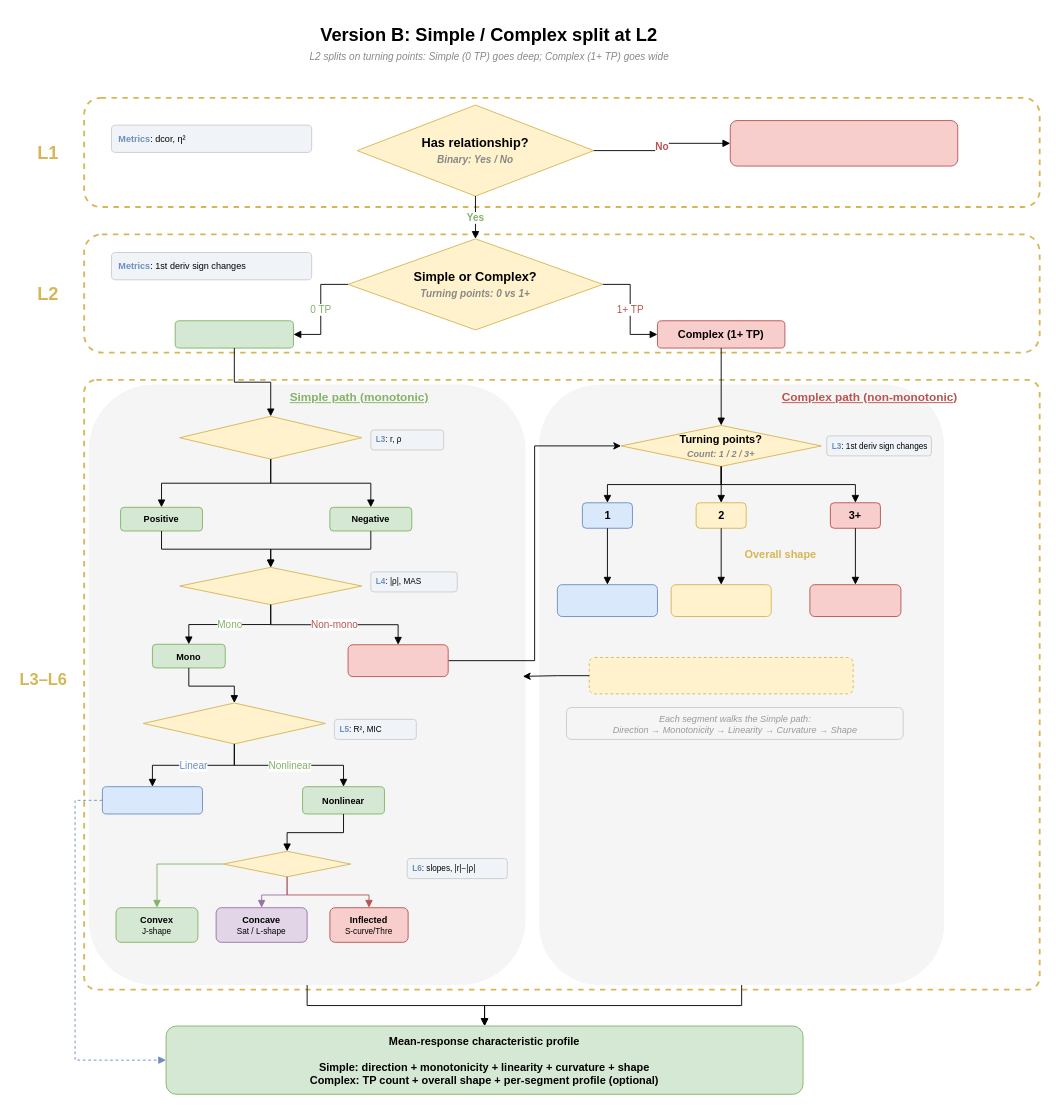
Some shapes in this 1056 by 1110 pixel diagram are drawn without their labels. The centre of each missing label's shape, as x and y in pixels:
"Cubic / N-shape" goes at point (720, 600).
"Curvature?" goes at point (286, 863).
"Direction? Pos / Neg" goes at point (270, 437).
"Linear → Line" goes at point (151, 800).
"Linearity? Linear / Nonlinear" goes at point (233, 723).
"Monotonicity? 5-level" goes at point (270, 585).
"No relationship → exit" goes at point (843, 143).
"Non-mono simplified exit" goes at point (397, 660).
"Oscillatory" goes at point (855, 600).
"Per-segment characterization (optional)" goes at point (720, 675).
"Simple (0 TP)" goes at point (233, 334).
"U / Inverted-U" goes at point (606, 600).
